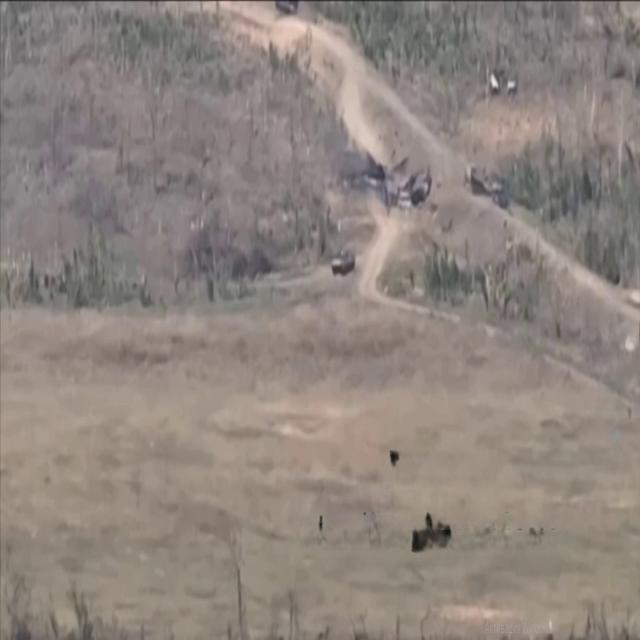AIFV: (332, 246, 358, 284)
